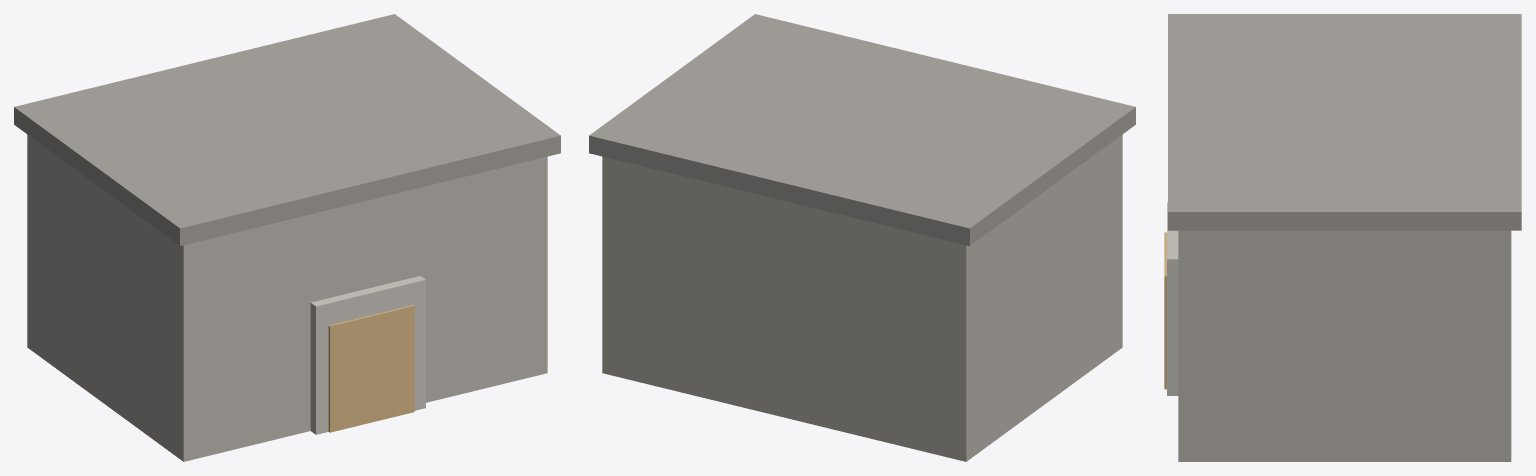
The picture shows the model from 3 angles, left to right: view 1: azimuth 30°, elevation 25°; view 2: azimuth 150°, elevation 25°; view 3: azimuth 270°, elevation 25°; orthographic projection. The views are drawn at different scales.
Visible parts, largest first — view 1: body; view 2: body; view 3: body.
Boxes of the visible parts, x1,y1,x2,y2 form: body: [14, 14, 560, 461]; body: [589, 14, 1135, 461]; body: [1164, 14, 1521, 461].
Size of the model in its own units: 9 by 5.4 by 6.87.
